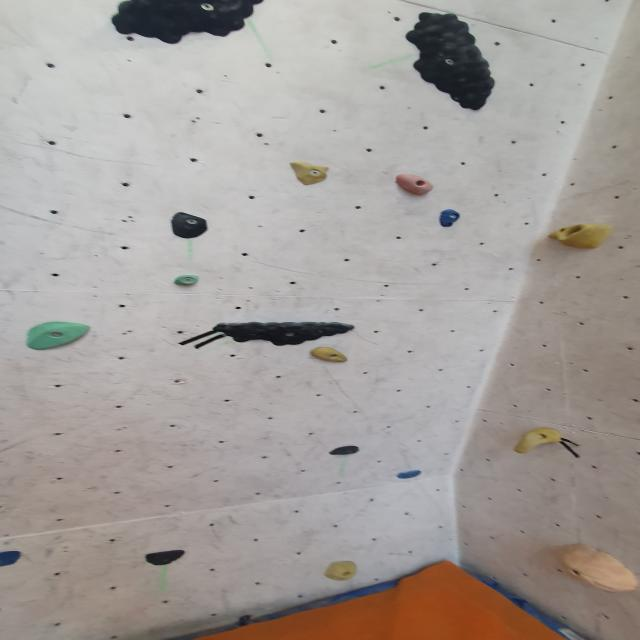Crimp: (22, 320, 94, 354), (285, 158, 333, 188), (140, 546, 191, 569), (325, 443, 367, 459), (435, 210, 463, 229), (173, 275, 204, 288), (396, 468, 426, 481)
Jug: (402, 6, 504, 115), (105, 0, 275, 47), (211, 319, 362, 348), (510, 428, 567, 458)
Pinch: (393, 172, 437, 198), (319, 556, 359, 584), (308, 345, 350, 366)
Pocket: (544, 220, 614, 251)
Sloper: (554, 543, 639, 597)
